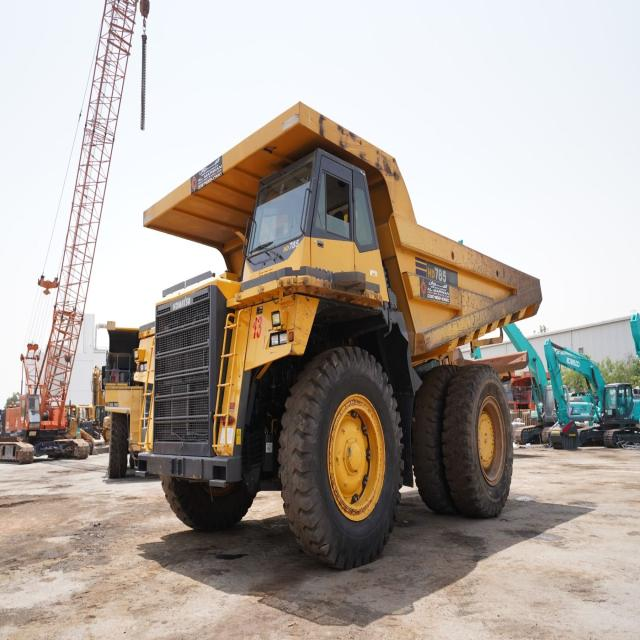dump_truck: (133, 132, 552, 580)
